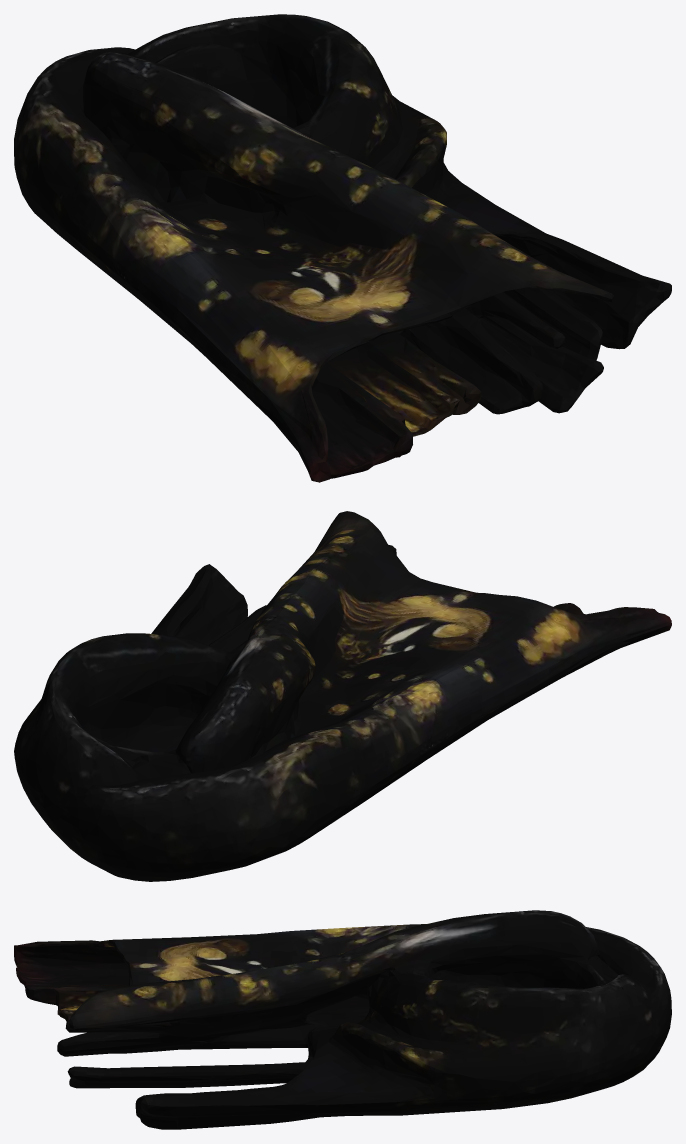
File: gloves_black_2.glb
3 renders of one model, top to bottom at view 1: azimuth 30°, elevation 25°; view 2: azimuth 150°, elevation 25°; view 3: azimuth 270°, elevation 25°, orthographic. The views are drawn at different scales.
Parts seen in each view (by area): view 1: geometry_0; view 2: geometry_0; view 3: geometry_0.
Part boxes in pixels (<box>): geometry_0: <box>14,14,671,482</box>; geometry_0: <box>14,511,671,881</box>; geometry_0: <box>14,910,671,1129</box>.
Size of the model in its own units: 0.6042 by 0.2361 by 0.9993.
1 material, 1 textured.
